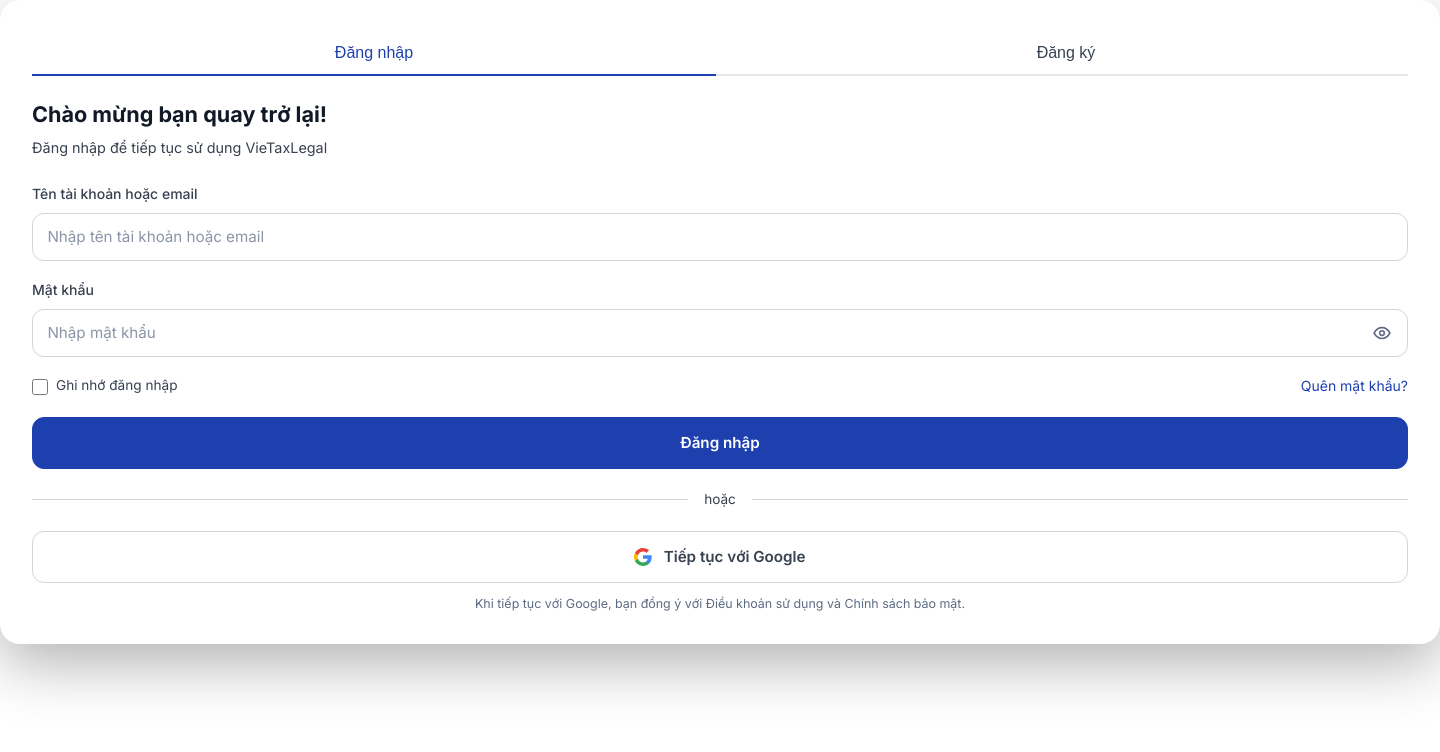
Scenario: AuthCard email verification at sign-up › translates a wrong code
Click the tab "Đăng ký" at (1066, 54), box [724,32,1408,76]
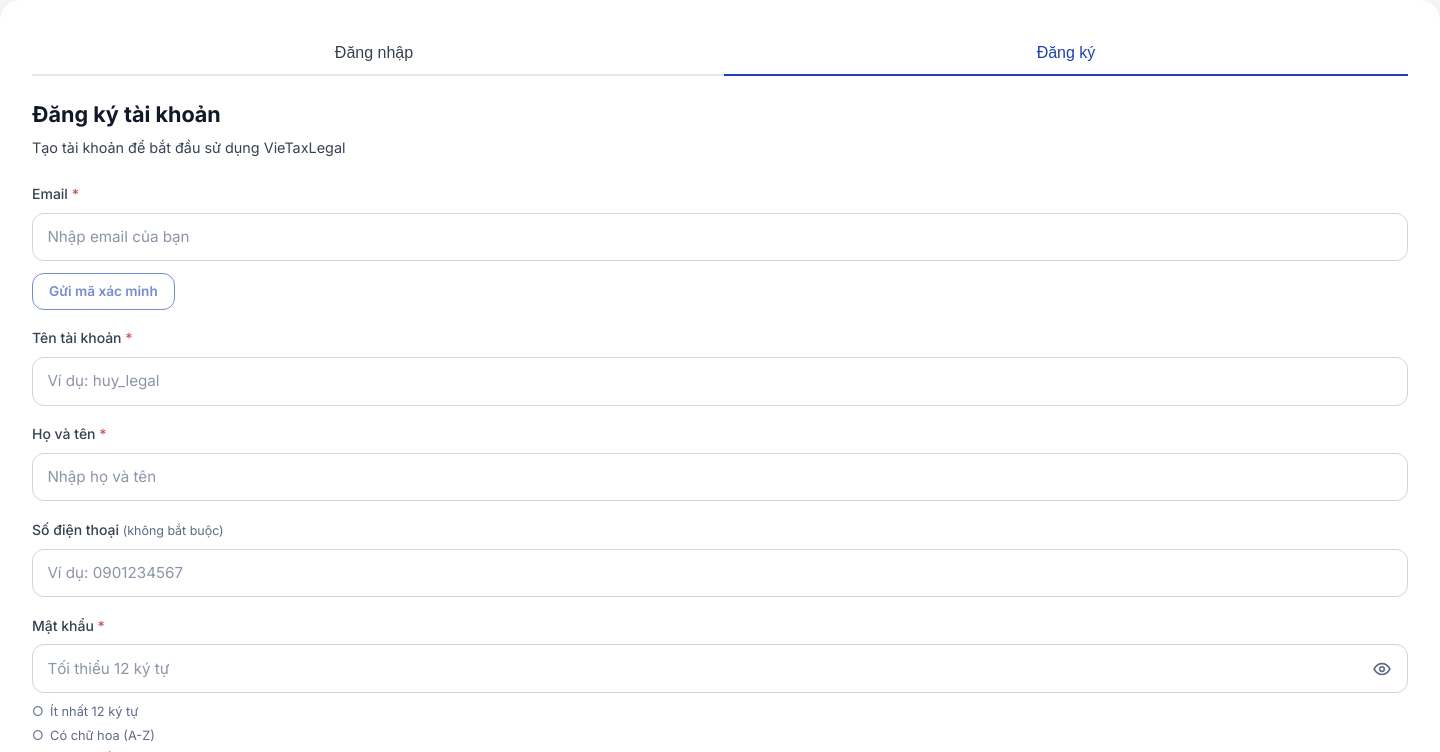
Type "huy@example.com" into the field labelled "Email *" at (720, 237), box [32,213,1408,261]
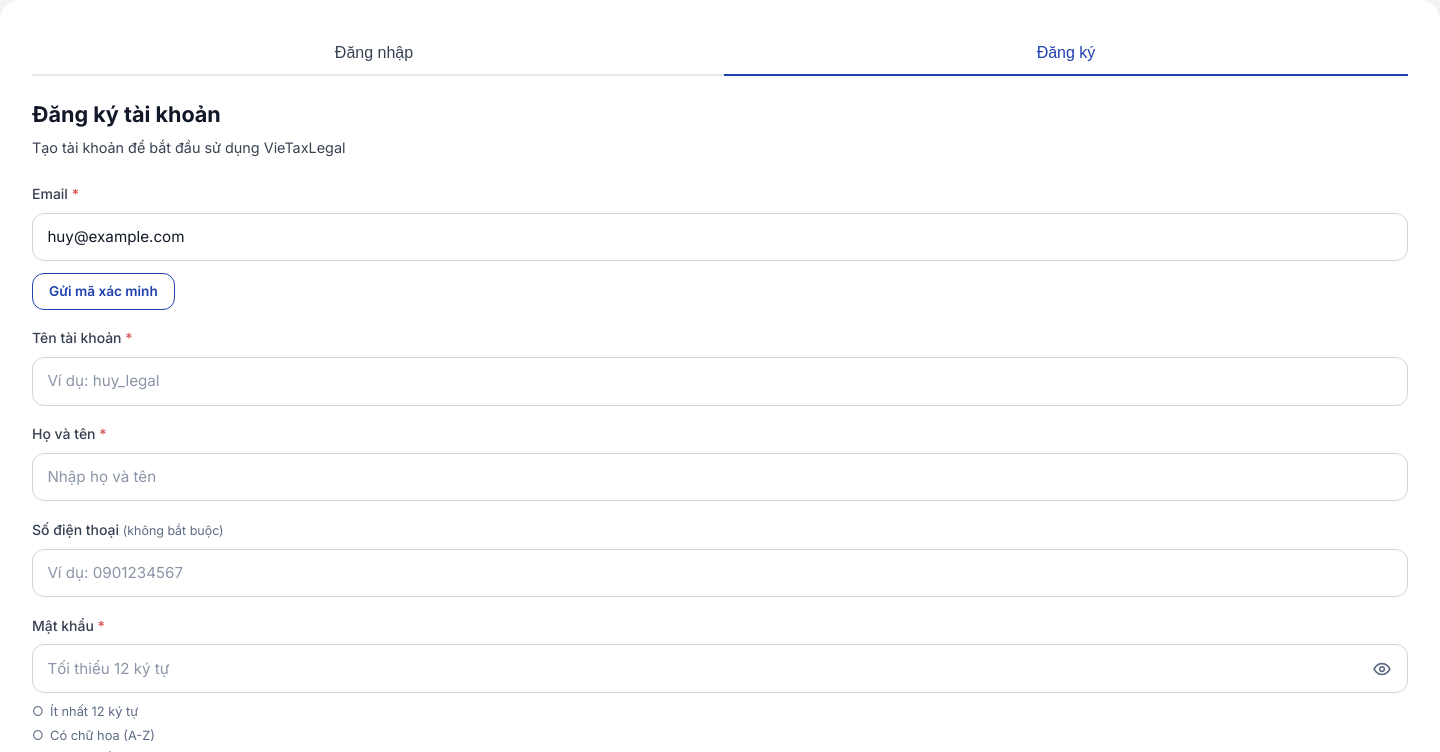
Click the button "Gửi mã xác minh" at (103, 291), box [32,273,175,310]
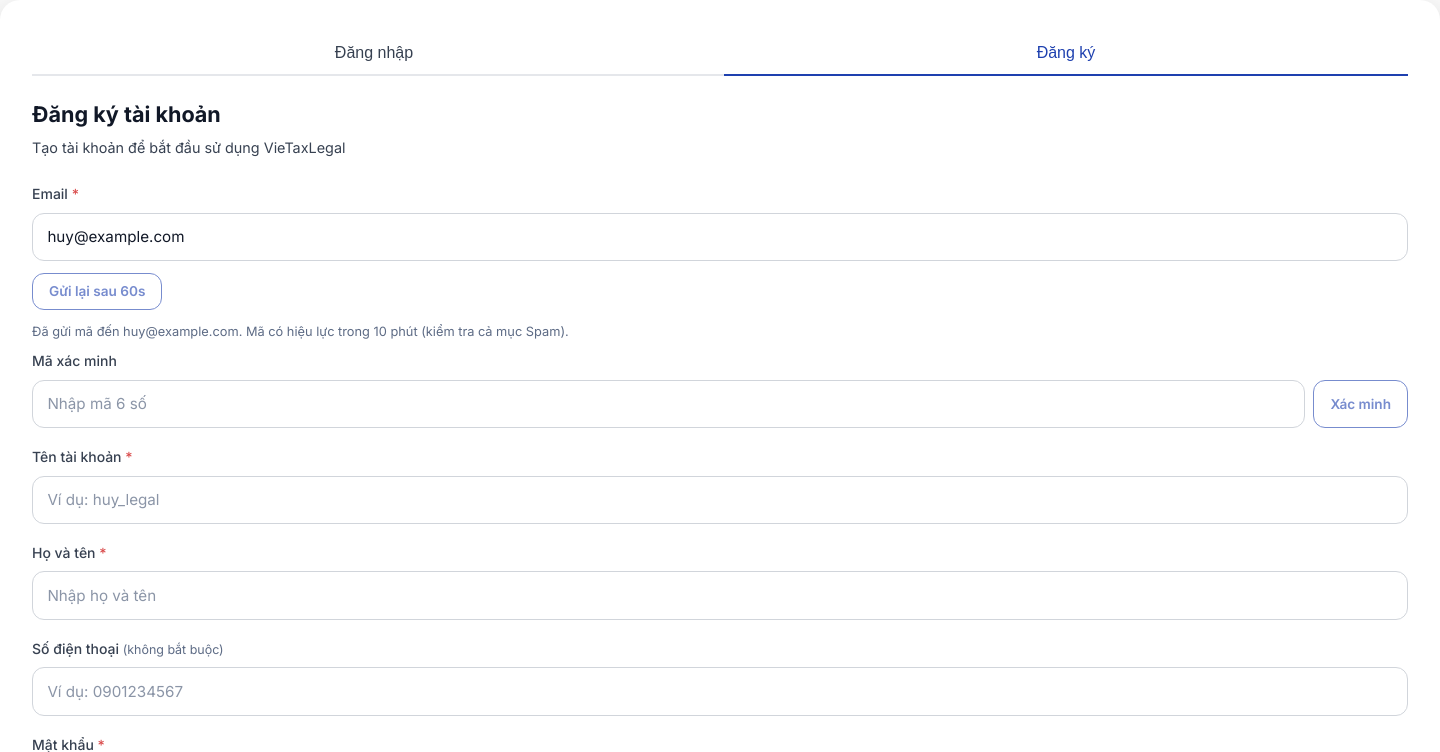
Type "000000" into the field labelled "Mã xác minh" at (669, 404), box [32,380,1305,428]
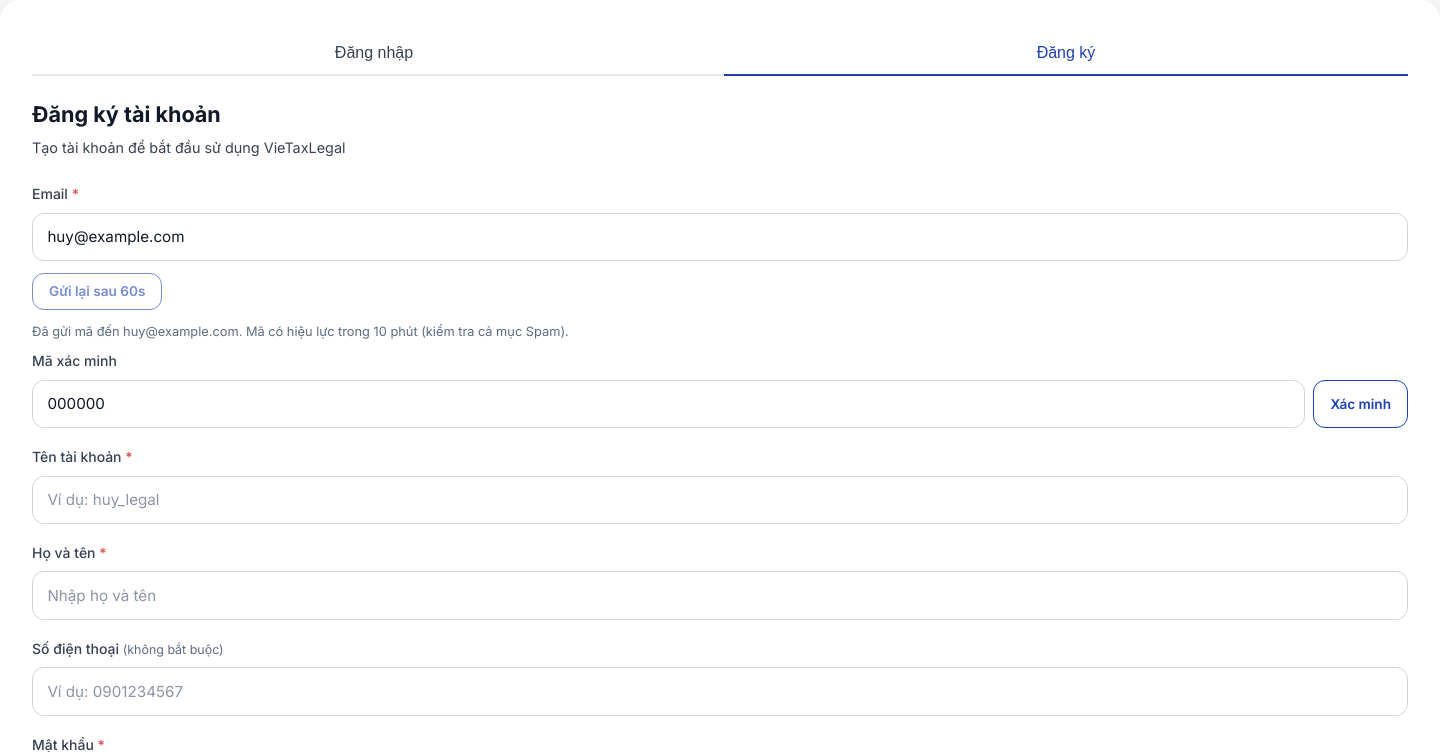
Click the button "Xác minh" at (1361, 404), box [1313,380,1408,428]
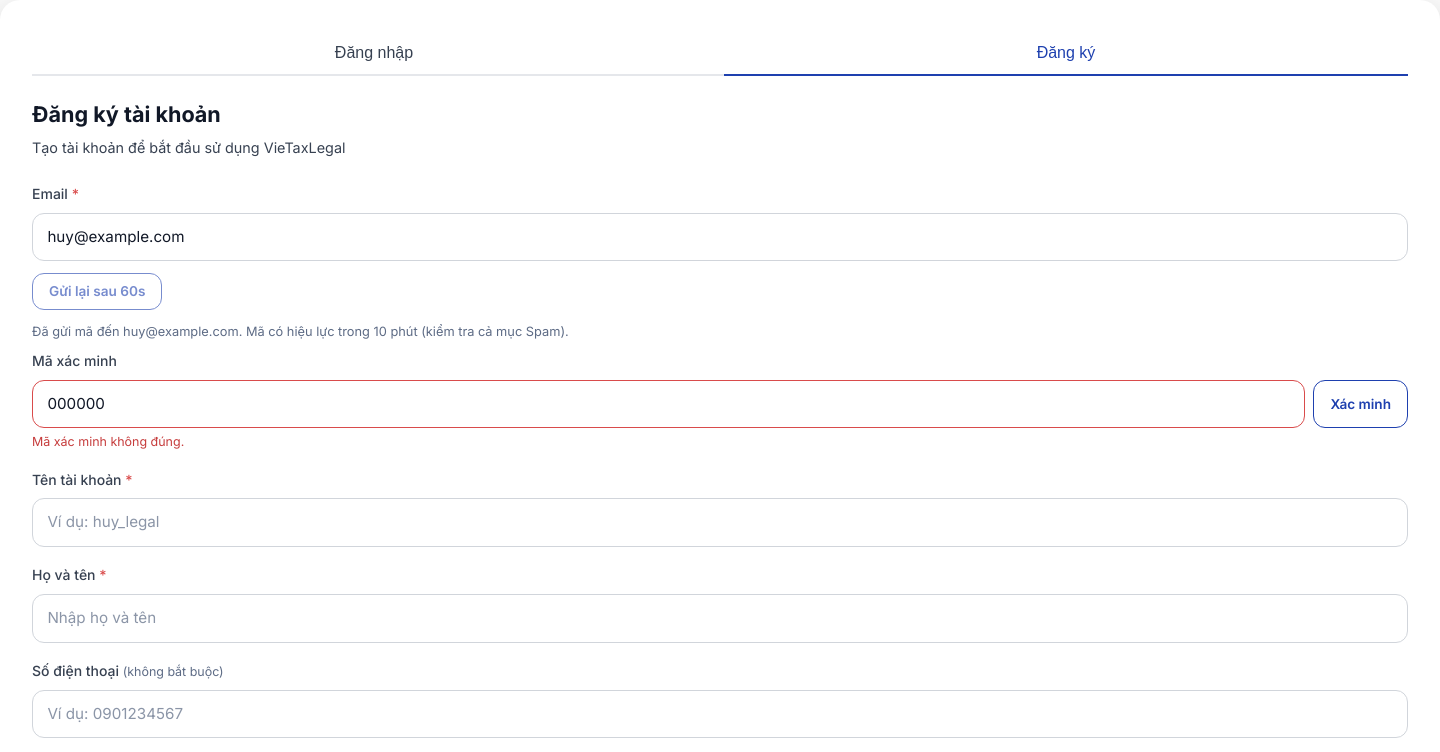
Result: the text "Mã xác minh không đúng." is shown at [32,434,184,449]
